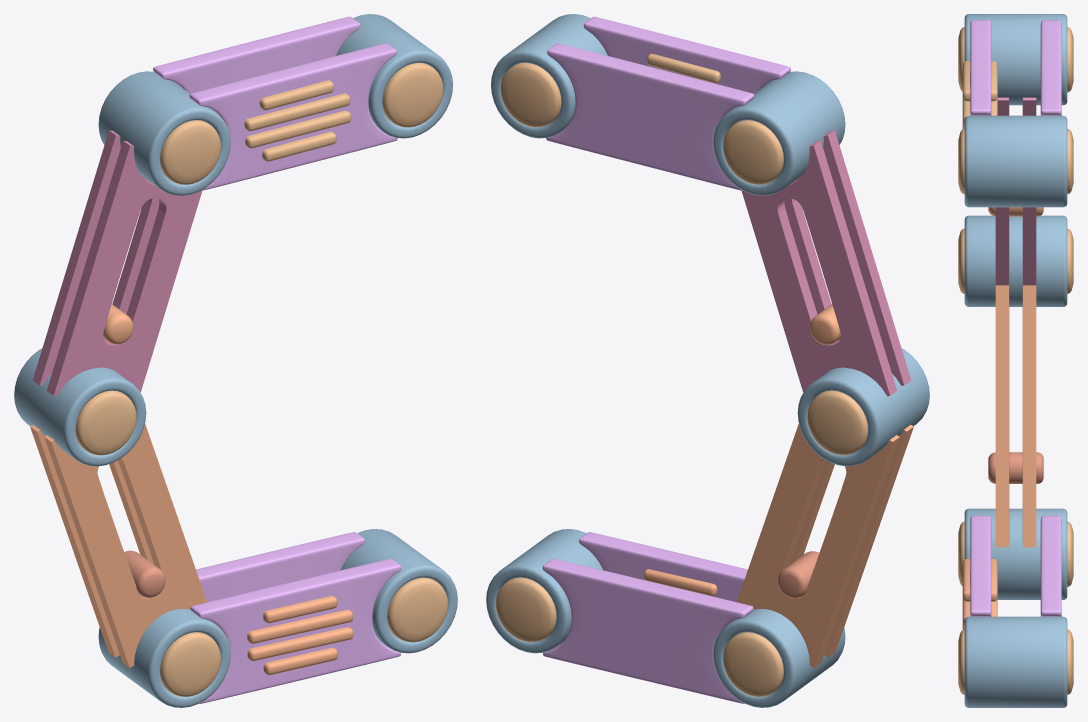
3 renders of one model, left to right at view 1: azimuth 30°, elevation 25°; view 2: azimuth 150°, elevation 25°; view 3: azimuth 270°, elevation 25°, orthographic. The views are drawn at different scales.
Visible parts, largest first — view 1: Cube.088; view 2: Cube.088; view 3: Cube.088.
Part boxes in pixels (x1=…): Cube.088: x1=14, y1=14, x2=457, y2=707; Cube.088: x1=486, y1=14, x2=929, y2=707; Cube.088: x1=958, y1=14, x2=1073, y2=707.
Size of the model in its own units: 2.2 by 3.25 by 0.5799.
